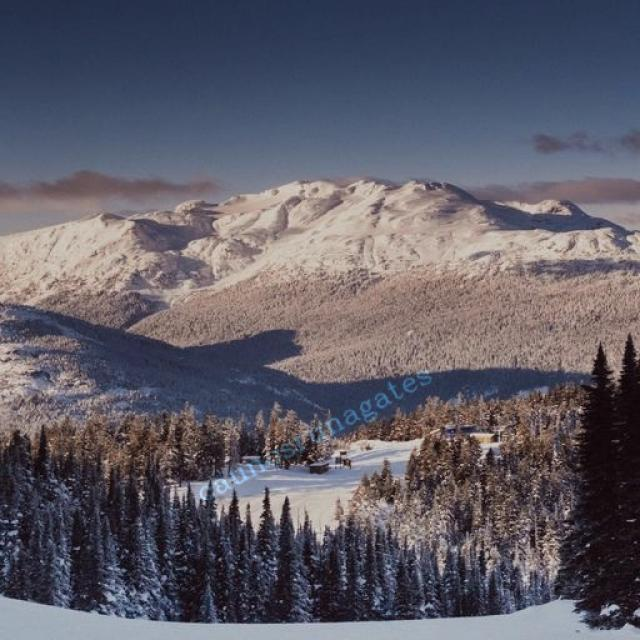watermark: (194, 358, 433, 508)
